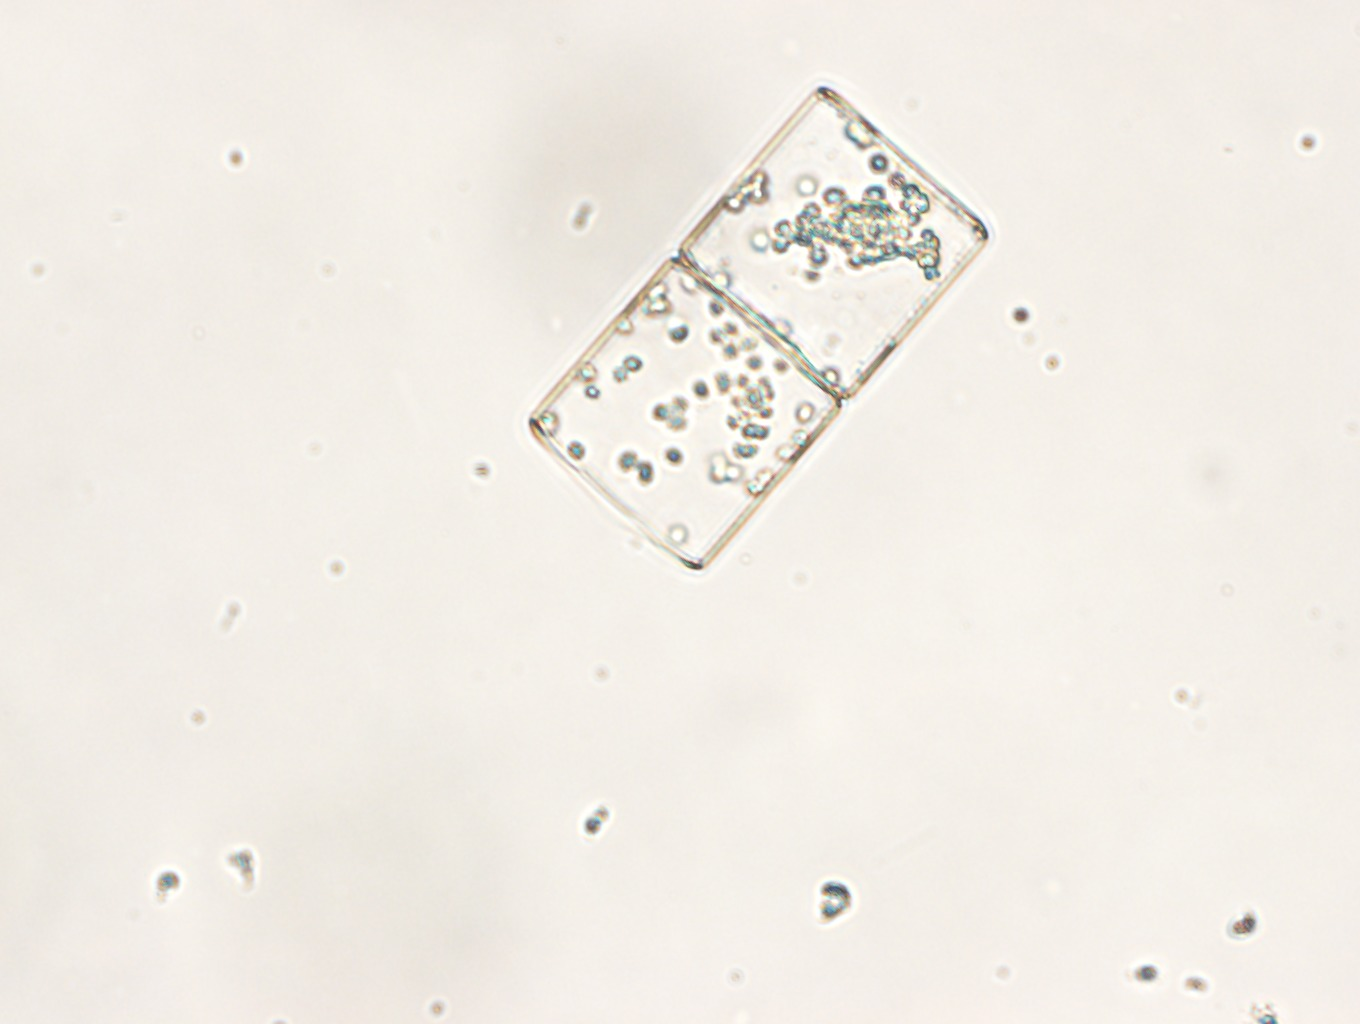guinardia flaccida: (525, 84, 989, 574)
